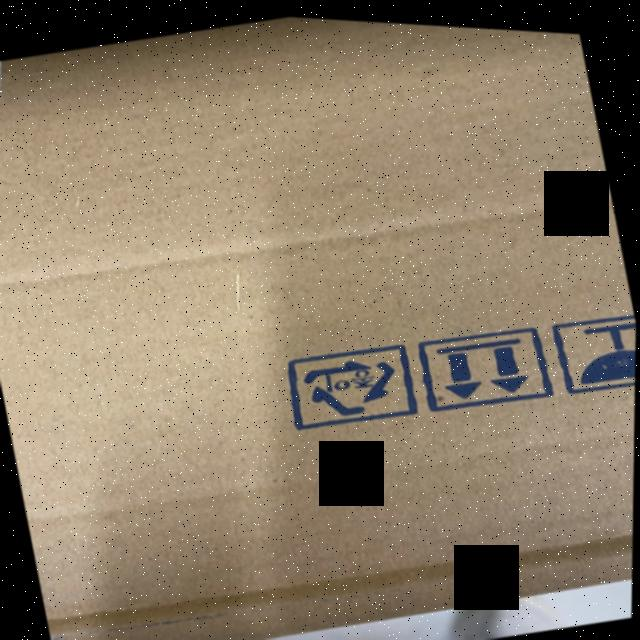Paper: (298, 344, 407, 424)
